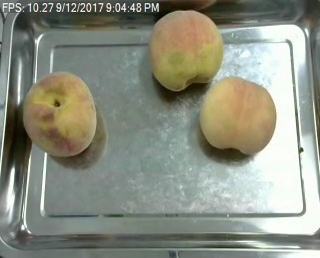Peach: (197, 75, 277, 158), (21, 70, 97, 157), (149, 8, 225, 89)
